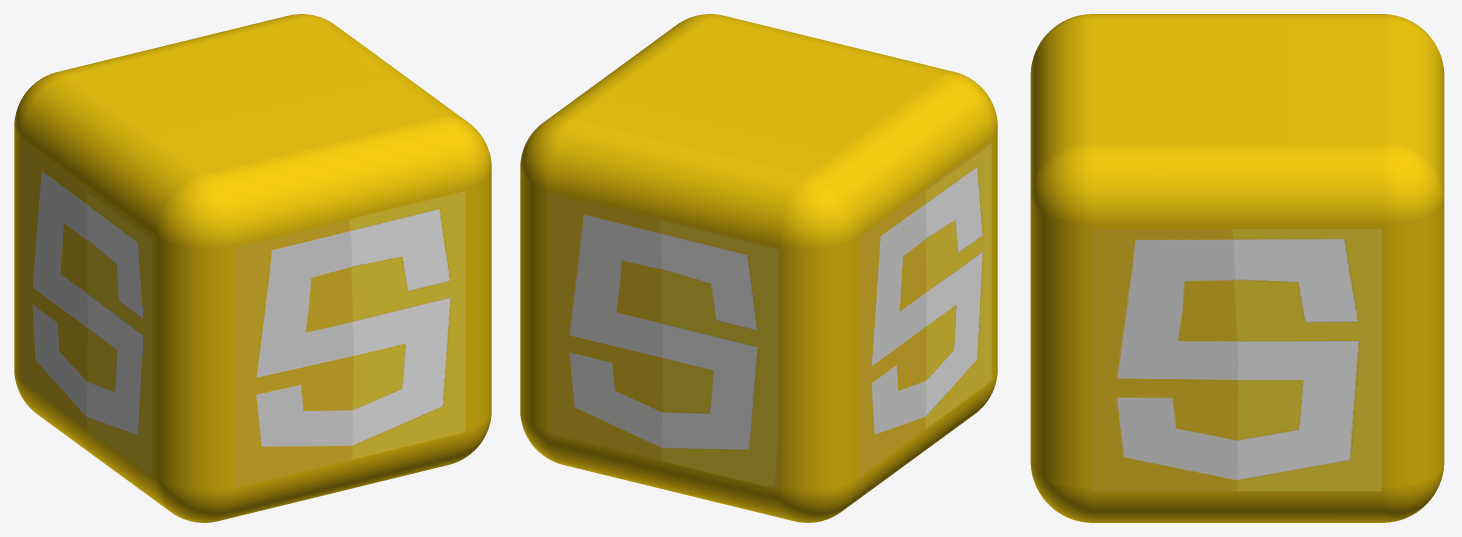
3 renders of one model, left to right at view 1: azimuth 30°, elevation 25°; view 2: azimuth 150°, elevation 25°; view 3: azimuth 270°, elevation 25°, orthographic. The views are drawn at different scales.
Parts seen in each view (by area): view 1: Cube.004, Plane.024, Plane.029; view 2: Cube.004, Plane.028, Plane.029; view 3: Cube.004, Plane.025.
Boxes of the visible parts, box(x1,y1,x2,y2) form: Cube.004: box(14, 14, 491, 522); Plane.024: box(235, 191, 465, 488); Plane.029: box(19, 139, 152, 477); Cube.004: box(520, 14, 997, 522); Plane.028: box(548, 192, 778, 489); Plane.029: box(858, 140, 991, 477); Cube.004: box(1030, 14, 1444, 522); Plane.025: box(1092, 229, 1381, 491).
Bounding box in the file's own units: 2.02 × 2 × 2.04.
5 materials, 4 textured.
